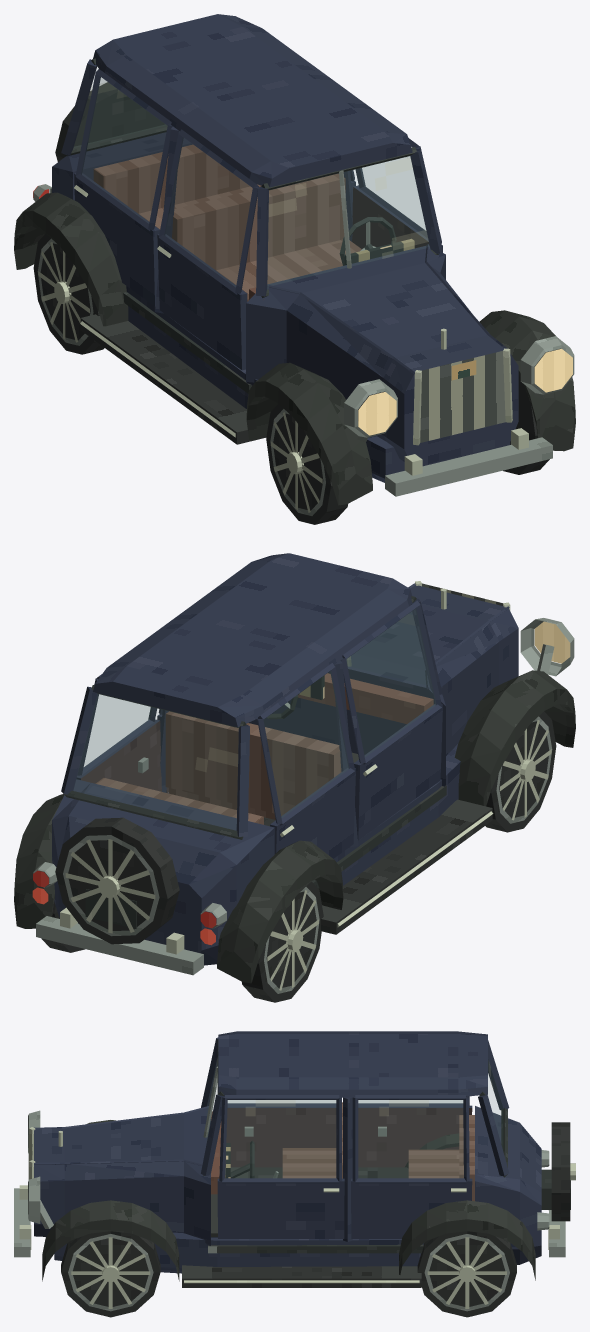
The model's file is alderwick-1928.glb.
The picture shows the model from 3 angles, top to bottom: view 1: azimuth 30°, elevation 25°; view 2: azimuth 150°, elevation 25°; view 3: azimuth 270°, elevation 25°; orthographic projection. The views are drawn at different scales.
Visible parts, largest first — view 1: body, Hood opening panel, Hinged side glass.002, Hinged side glass.003, Shaped hinged outer door.002, Shaped hinged outer door.003, Tyre tread and scalloped shoulders.001, Tyre tread and scalloped shoulders.003, Tyre tread and scalloped shoulders.004, Padded inside door panel, Hinged side glass, Lens.003 (+9 smaller); view 2: body, Tyre tread and scalloped shoulders.004, Hinged side glass.002, Hinged side glass.003, Hood opening panel, Shaped hinged outer door.002, Shaped hinged outer door.003, Tyre tread and scalloped shoulders.003, Tyre tread and scalloped shoulders.001, Padded inside door panel.001, Hinged side glass.001, Wheel side annulus.004 (+8 smaller); view 3: body, Hinged side glass, Hinged side glass.001, Shaped hinged outer door, Hood opening panel, Padded inside door panel.002, Tyre tread and scalloped shoulders, Tyre tread and scalloped shoulders.002, Shaped hinged outer door.001, Padded inside door panel.003, Tyre tread and scalloped shoulders.004, Wheel side annulus (+12 smaller).
Boxes of the visible parts, left/top/right/bottom form: body: left=14, top=14, right=575, bottom=505; Hood opening panel: left=267, top=246, right=504, bottom=371; Hinged side glass.002: left=165, top=138, right=251, bottom=286; Hinged side glass.003: left=82, top=77, right=166, bottom=222; Shaped hinged outer door.002: left=157, top=234, right=241, bottom=369; Shaped hinged outer door.003: left=74, top=173, right=154, bottom=306; Tyre tread and scalloped shoulders.001: left=266, top=404, right=347, bottom=524; Tyre tread and scalloped shoulders.003: left=33, top=233, right=104, bottom=354; Tyre tread and scalloped shoulders.004: left=55, top=82, right=164, bottom=161; Padded inside door panel: left=352, top=187, right=429, bottom=248; Hinged side glass: left=361, top=157, right=425, bottom=229; Lens.003: left=358, top=392, right=396, bottom=435; body: left=14, top=553, right=575, bottom=983; Tyre tread and scalloped shoulders.004: left=55, top=817, right=179, bottom=944; Hinged side glass.002: left=347, top=609, right=435, bottom=756; Hinged side glass.003: left=264, top=671, right=348, bottom=817; Hood opening panel: left=346, top=585, right=506, bottom=687; Shaped hinged outer door.002: left=358, top=705, right=442, bottom=840; Shaped hinged outer door.003: left=276, top=768, right=355, bottom=858; Tyre tread and scalloped shoulders.003: left=242, top=881, right=323, bottom=1002; Tyre tread and scalloped shoulders.001: left=485, top=711, right=556, bottom=832; Padded inside door panel.001: left=81, top=721, right=161, bottom=791; Hinged side glass.001: left=84, top=695, right=151, bottom=766; Wheel side annulus.004: left=63, top=835, right=159, bottom=936; body: left=14, top=1031, right=570, bottom=1287; Hinged side glass: left=225, top=1100, right=335, bottom=1177; Hinged side glass.001: left=359, top=1100, right=463, bottom=1177; Shaped hinged outer door: left=217, top=1181, right=344, bottom=1238; Hood opening panel: left=34, top=1107, right=210, bottom=1164; Padded inside door panel.002: left=225, top=1108, right=336, bottom=1167; Tyre tread and scalloped shoulders: left=61, top=1231, right=160, bottom=1317; Tyre tread and scalloped shoulders.002: left=417, top=1231, right=516, bottom=1317; Shaped hinged outer door.001: left=351, top=1181, right=472, bottom=1238; Padded inside door panel.003: left=358, top=1108, right=472, bottom=1167; Tyre tread and scalloped shoulders.004: left=551, top=1122, right=570, bottom=1221; Wheel side annulus: left=68, top=1234, right=153, bottom=1311.
Size of the model in its own units: 1.84 by 1.89 by 4.38.
Materials: 6 (6 with a texture image).
